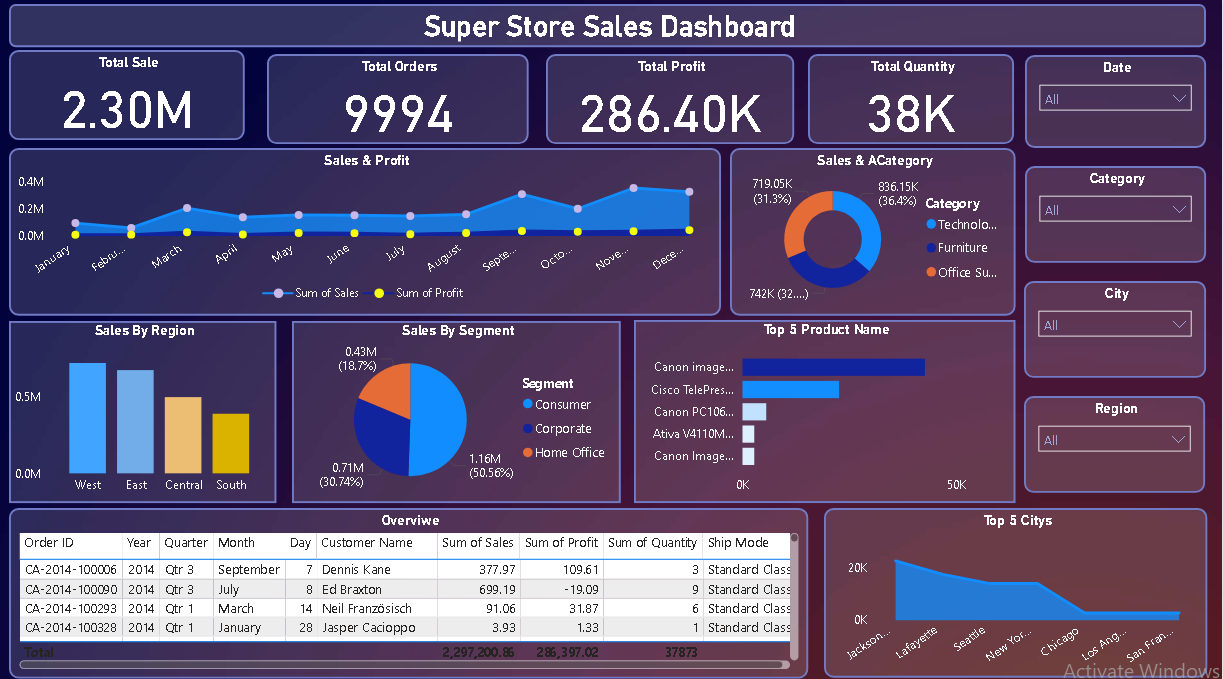

The dashboard page shown, as its layout file describes it:
{"tool":"powerbi","page":{"name":"Page 1","canvas":[1280,720],"ordinal":0},"visuals":[{"type":"card","title":"Total Sale","fields":{"Values":["Sum(Sample - Superstore.Sales)"]},"box":[14,58.6,246.1,94.3],"z":0},{"type":"card","title":"Total Orders","fields":{"Values":["CountNonNull(Sample - Superstore.Order ID)"]},"box":[283,62.5,272.8,94.3],"z":1000},{"type":"card","title":"Total Profit","fields":{"Values":["Sum(Sample - Superstore.Profit)"]},"box":[573.7,62.5,258.8,94.3],"z":2000},{"type":"card","title":"Total Quantity","fields":{"Values":["Sum(Sample - Superstore.Quantity)"]},"box":[847.8,62.5,215.5,94.3],"z":3000},{"type":"donutChart","title":"Sales & ACategory","fields":{"Y":["Sum(Sample - Superstore.Sales)"],"Category":["Sample - Superstore.Category"]},"box":[766.2,160.6,298.3,174.7],"z":5000},{"type":"clusteredColumnChart","title":"Sales By Region","fields":{"Category":["Sample - Superstore.Region"],"Y":["Sum(Sample - Superstore.Sales)"]},"box":[14,341.7,279.2,190],"z":6000},{"type":"pieChart","title":"Sales By Segment","fields":{"Y":["Sum(Sample - Superstore.Sales)"],"Category":["Sample - Superstore.Segment"]},"box":[308.5,341.7,342.9,190],"z":7000},{"type":"clusteredBarChart","title":"Top 5 Product Name","fields":{"Y":["Sum(Sample - Superstore.Sales)"],"Category":["Sample - Superstore.Product Name"]},"box":[665.5,340.4,397.8,191.2],"z":8000},{"type":"textbox","title":"Super Store Sales Dashboard ","box":[14,10.2,1249.4,44.6],"z":9000},{"type":"slicer","title":"Region","fields":{"Values":["Sample - Superstore.Region"]},"box":[1072.2,419.4,188.7,100.7],"z":10000},{"type":"slicer","title":"City","fields":{"Values":["Sample - Superstore.City"]},"box":[1072.2,299.6,190,100.7],"z":11000},{"type":"slicer","title":"Date","fields":{"Values":["Sample - Superstore.Order Date.Variation.Date Hierarchy.Year","Sample - Superstore.Order Date.Variation.Date Hierarchy.Month"]},"box":[1073.5,63.7,188.7,96.9],"z":12000},{"type":"slicer","title":"Category","fields":{"Values":["Sample - Superstore.Category"]},"box":[1073.5,179.8,188.7,100.7],"z":13000},{"type":"tableEx","title":"Overviwe","fields":{"Values":["Sample - Superstore.Order ID","Sample - Superstore.Order Date.Variation.Date Hierarchy.Year","Sample - Superstore.Order Date.Variation.Date Hierarchy.Quarter","Sample - Superstore.Order Date.Variation.Date Hierarchy.Month","Sample - Superstore.Order Date.Variation.Date Hierarchy.Day","Sample - Superstore.Customer Name","Sum(Sample - Superstore.Sales)","Sum(Sample - Superstore.Profit)","Sum(Sample - Superstore.Quantity)","Sample - Superstore.Ship Mode"]},"box":[14,536.7,833.8,178.5],"z":14000},{"type":"lineChart","title":"Top 5 Citys","fields":{"Y":["Sum(Sample - Superstore.Sales)"],"Category":["Sample - Superstore.City"]},"box":[864.4,536.7,400.3,177.2],"z":15000},{"type":"lineChart","title":"Sales & Profit","fields":{"Y":["Sum(Sample - Superstore.Sales)","Sum(Sample - Superstore.Profit)"],"Category":["Sample - Superstore.Order Date.Variation.Date Hierarchy.Month"]},"box":[14,160.6,743.3,174.7],"z":16000}]}

Visuals, with their boxes in screenshot pixels (x1, y1, x2, y2), scaled from the page's 1280x720 canvas onto the 1223x679 screenshot:
"Total Sale" card: rect(13, 55, 249, 144)
"Total Orders" card: rect(270, 59, 531, 148)
"Total Profit" card: rect(548, 59, 795, 148)
"Total Quantity" card: rect(810, 59, 1016, 148)
"Sales & ACategory" donutChart: rect(732, 151, 1017, 316)
"Sales By Region" clusteredColumnChart: rect(13, 322, 280, 501)
"Sales By Segment" pieChart: rect(295, 322, 622, 501)
"Top 5 Product Name" clusteredBarChart: rect(636, 321, 1016, 501)
"Super Store Sales Dashboard " textbox: rect(13, 10, 1207, 52)
"Region" slicer: rect(1024, 396, 1205, 490)
"City" slicer: rect(1024, 283, 1206, 378)
"Date" slicer: rect(1026, 60, 1206, 151)
"Category" slicer: rect(1026, 170, 1206, 265)
"Overviwe" tableEx: rect(13, 506, 810, 674)
"Top 5 Citys" lineChart: rect(826, 506, 1208, 673)
"Sales & Profit" lineChart: rect(13, 151, 724, 316)
